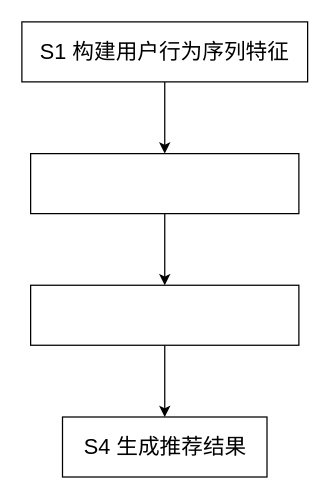
Some shapes in this 330 by 500 pixel diagram are drawn without their labels. Here are the shapes that lost their labels. From the top down, the centre of each, then its label:
At point (164, 183): "S2 构建实时上下文特征".
At point (164, 314): "S3 生成并应用融合权重".
